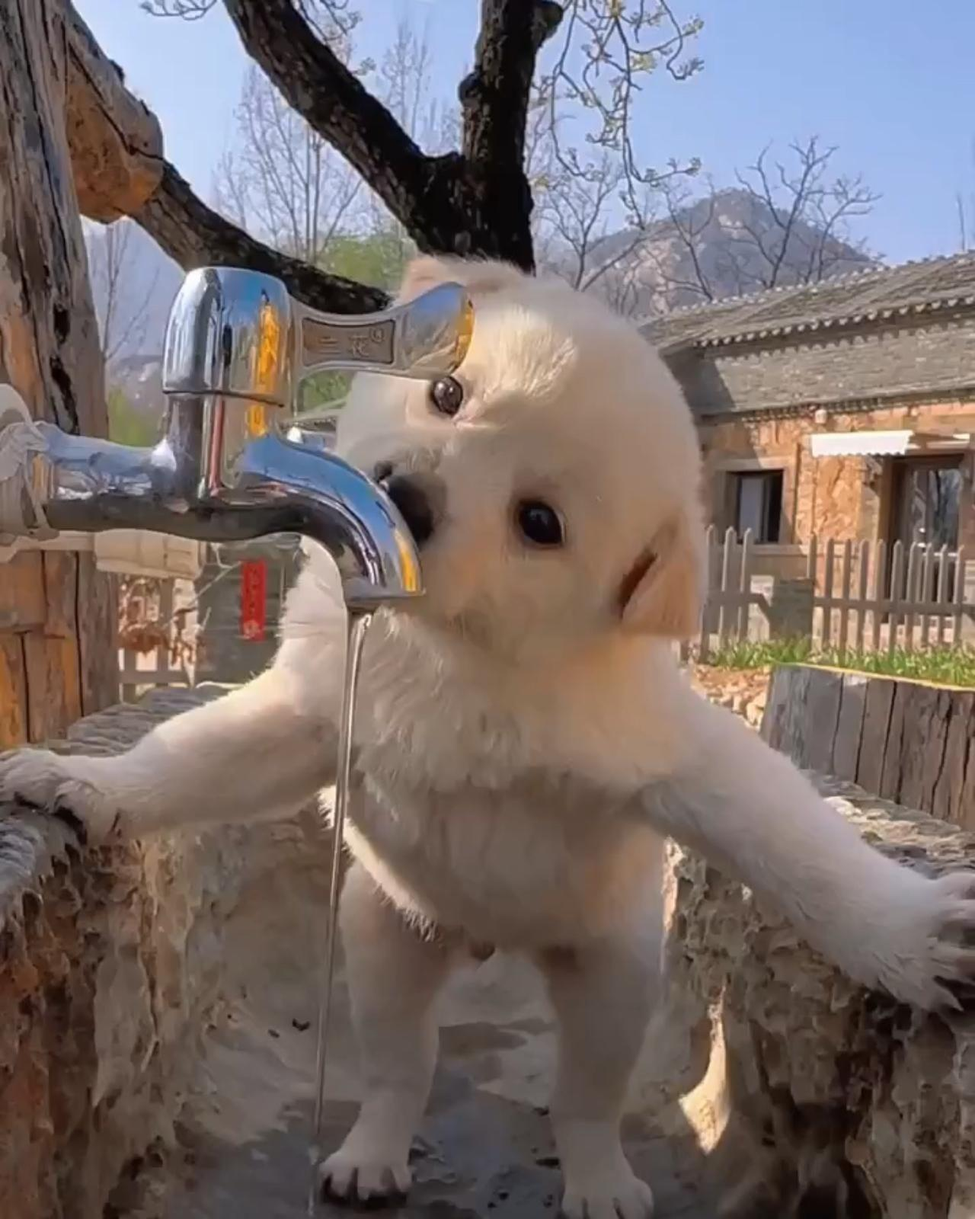puppy-dog: (0, 254, 975, 1219)
